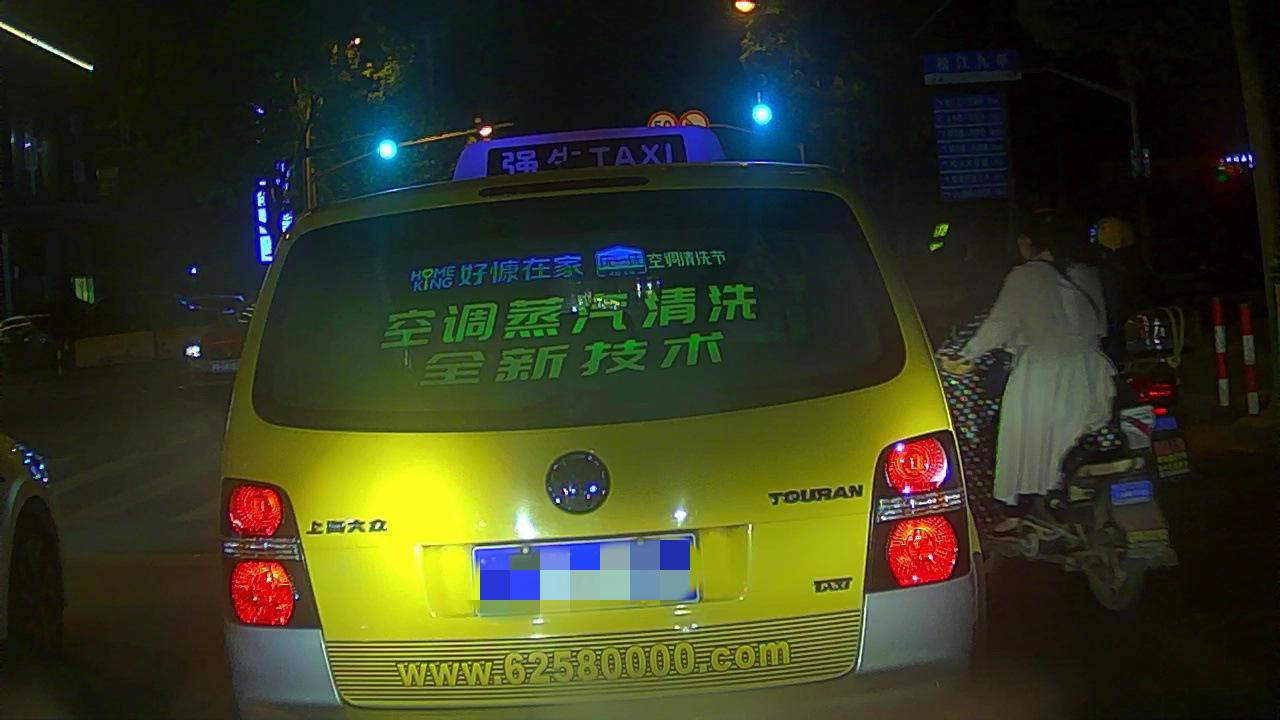traffic_light: (371, 128, 405, 166), (746, 97, 778, 132)
